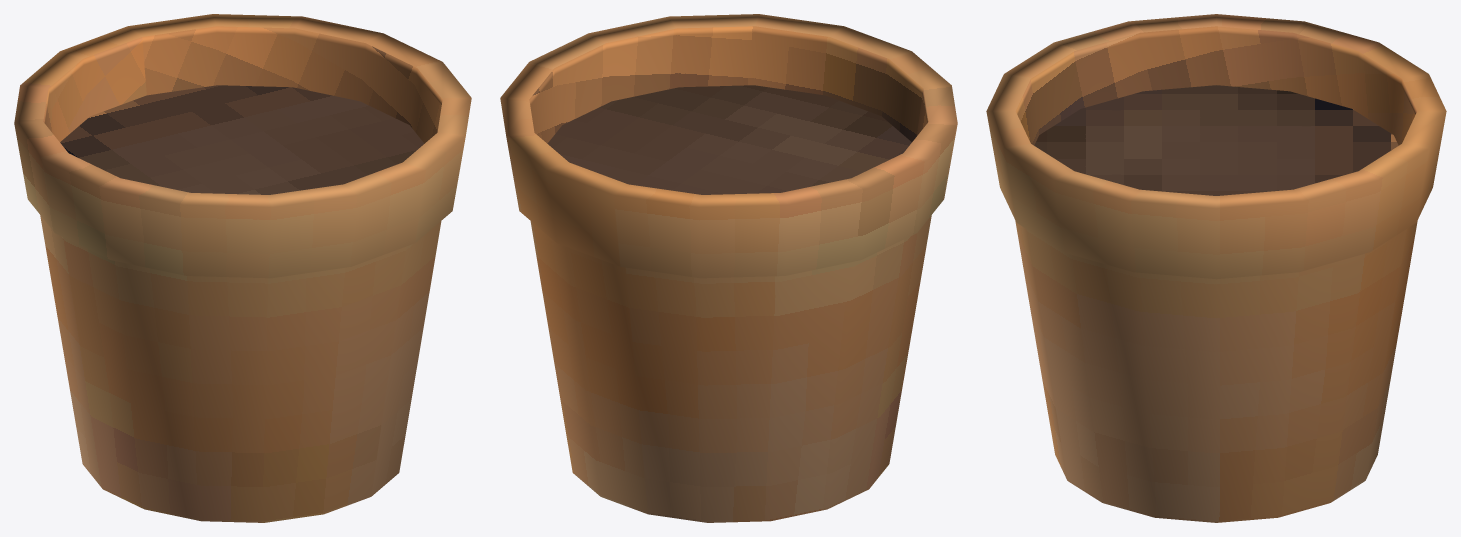
Rendered from objects_un_t01flowerpots01.gltf.
3 views of the same model, side by side, from view 1: azimuth 30°, elevation 25°; view 2: azimuth 150°, elevation 25°; view 3: azimuth 270°, elevation 25° (orthographic).
Parts seen in each view (by area): view 1: objects_un_t01flowerpots01_mesh_shape:objects_un_t01flowerpo; view 2: objects_un_t01flowerpots01_mesh_shape:objects_un_t01flowerpo; view 3: objects_un_t01flowerpots01_mesh_shape:objects_un_t01flowerpo.
Boxes of the visible parts, x1=… form: objects_un_t01flowerpots01_mesh_shape:objects_un_t01flowerpo: x1=14, y1=14, x2=471, y2=522; objects_un_t01flowerpots01_mesh_shape:objects_un_t01flowerpo: x1=500, y1=14, x2=957, y2=522; objects_un_t01flowerpots01_mesh_shape:objects_un_t01flowerpo: x1=986, y1=14, x2=1446, y2=522.
Size of what is drawn, in the model's own units: 0.3747 by 0.3087 by 0.3747.
1 material, 1 textured.
